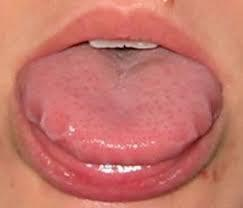baitaishe: (20, 49, 218, 165)
chihenshe: (22, 100, 75, 142), (190, 95, 219, 138)
